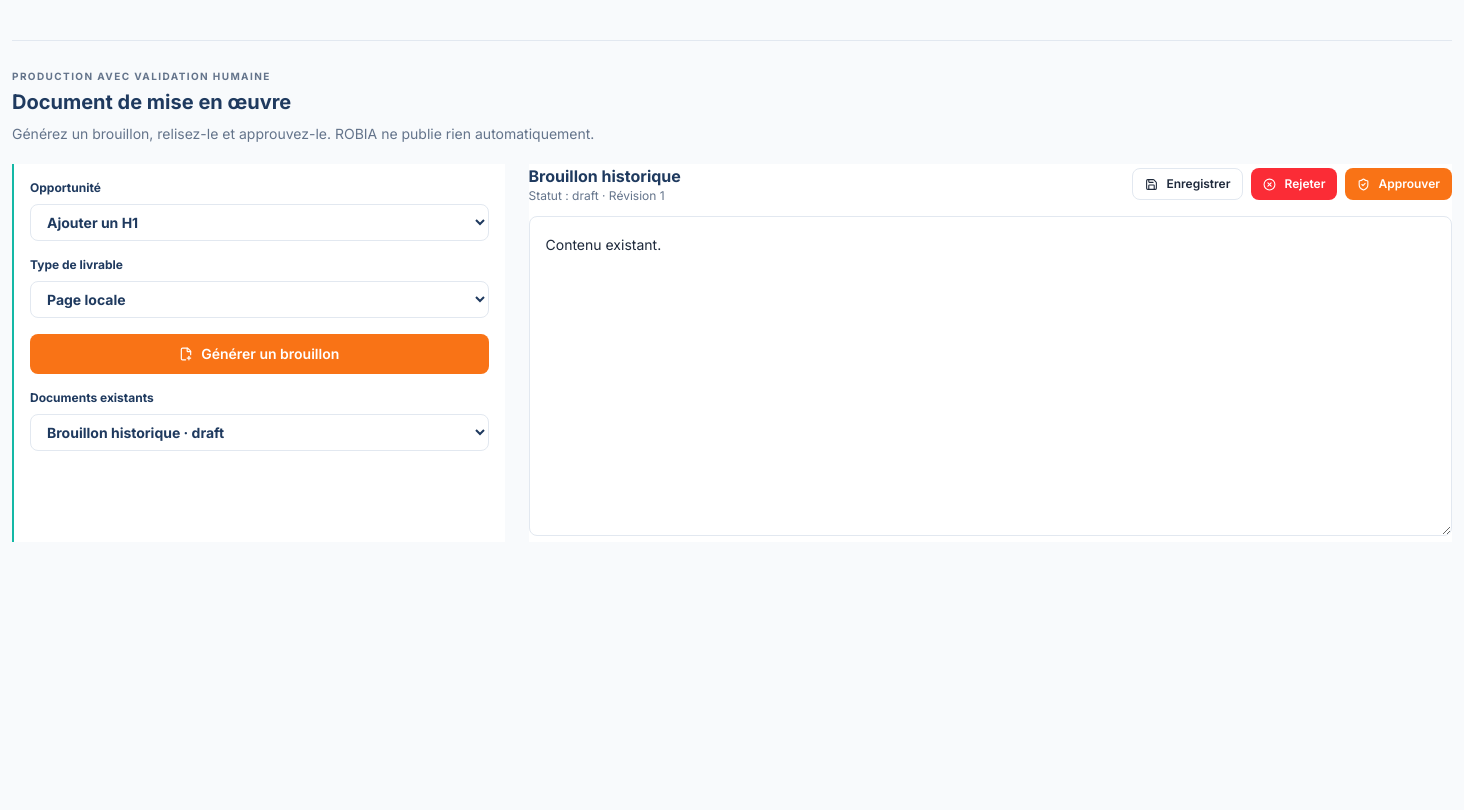
DocumentWorkflow — migrated to revision-based saves › preserves the local text for copy when a conflict occurs
Replace the text in the text box showing "Contenu existant." with "Mon texte local perdu sinon." at (990, 376), box [528,216,1452,536]
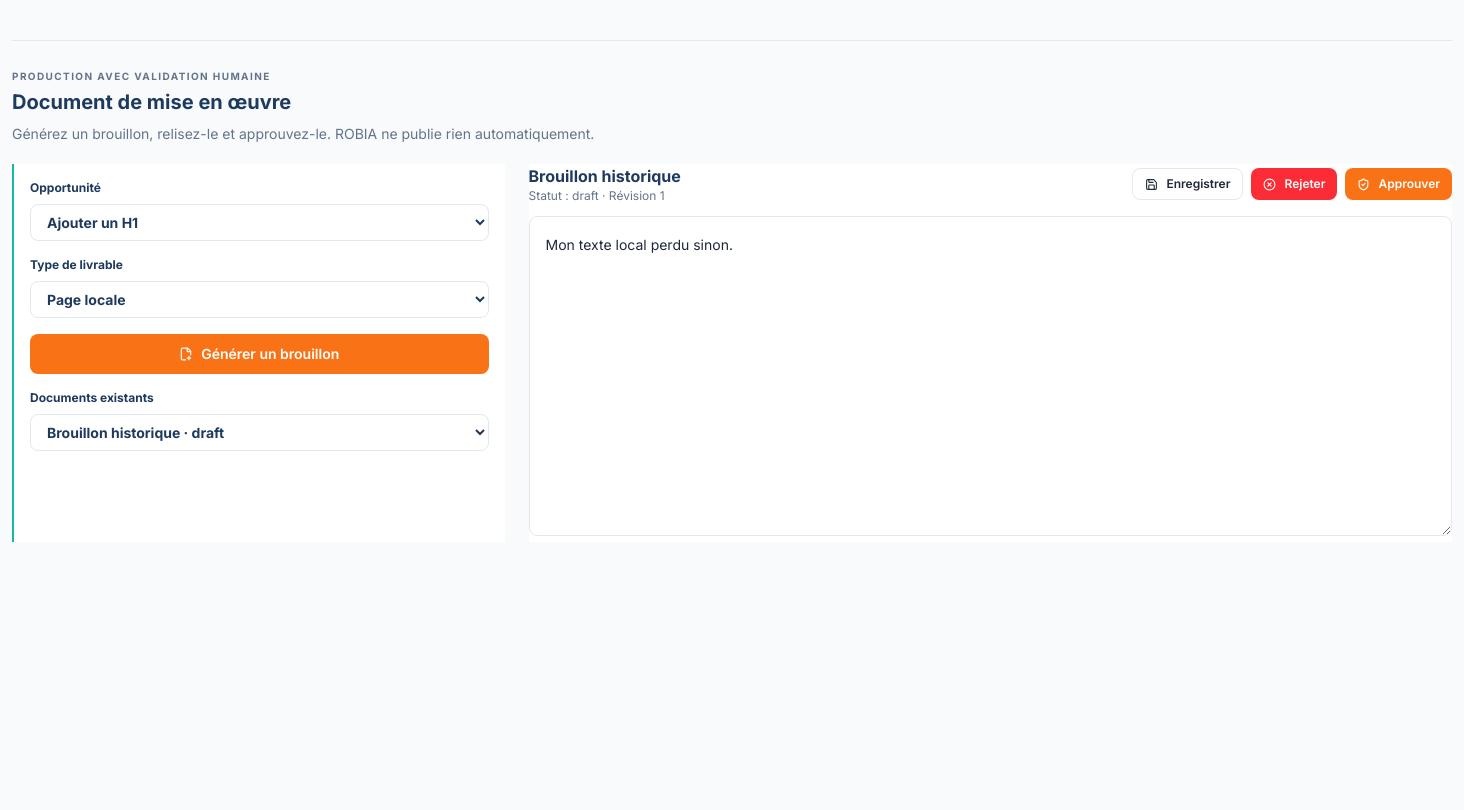
Click the button "Enregistrer".
click(1188, 184)  # box [1132,168,1243,200]
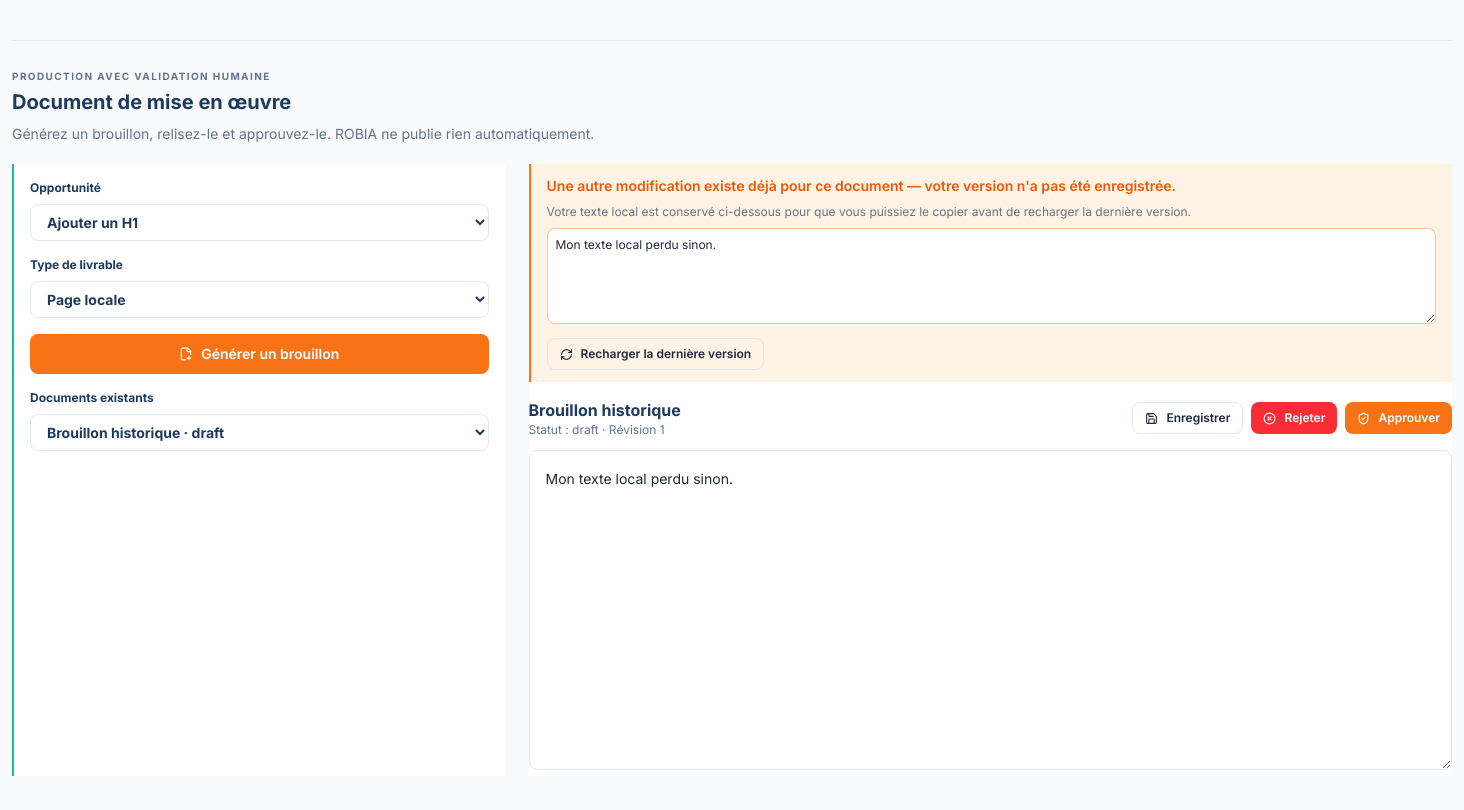
Check: the 1st text box showing "Mon texte local perdu sinon." is shown, box [546,228,1436,324]
